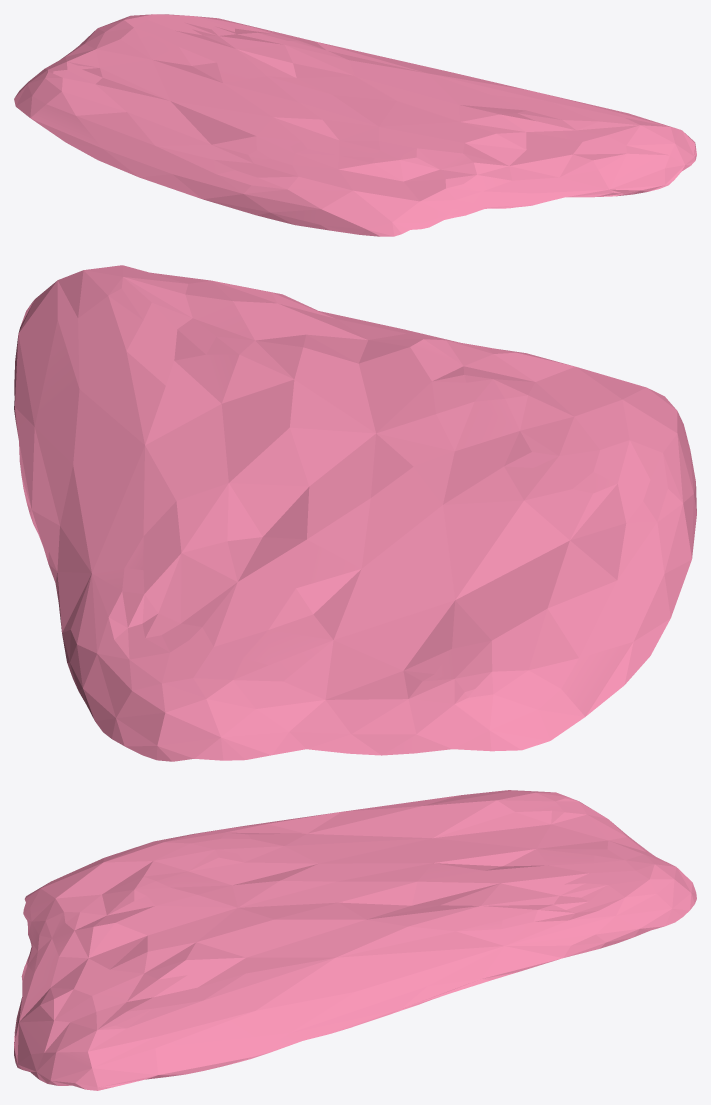
The model's file is ground.077.fbx.
The picture shows the model from 3 angles, top to bottom: view 1: azimuth 30°, elevation 25°; view 2: azimuth 150°, elevation 25°; view 3: azimuth 270°, elevation 25°; orthographic projection. The views are drawn at different scales.
Parts seen in each view (by area): view 1: ground_077; view 2: ground_077; view 3: ground_077.
Part boxes in pixels (box(x1,y1,x2,y2)): ground_077: box(14, 14, 696, 236); ground_077: box(14, 265, 696, 761); ground_077: box(14, 790, 696, 1090).
Bounding box in the file's own units: 24498 × 2197 × 25066.
